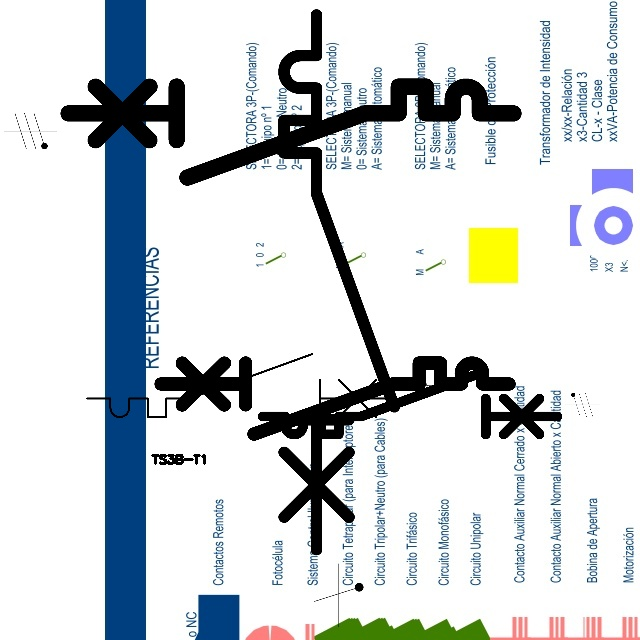interruptor_termomagnetico: (270, 1, 407, 563), (56, 75, 524, 189), (152, 354, 518, 443), (79, 346, 402, 425), (255, 366, 565, 442)
